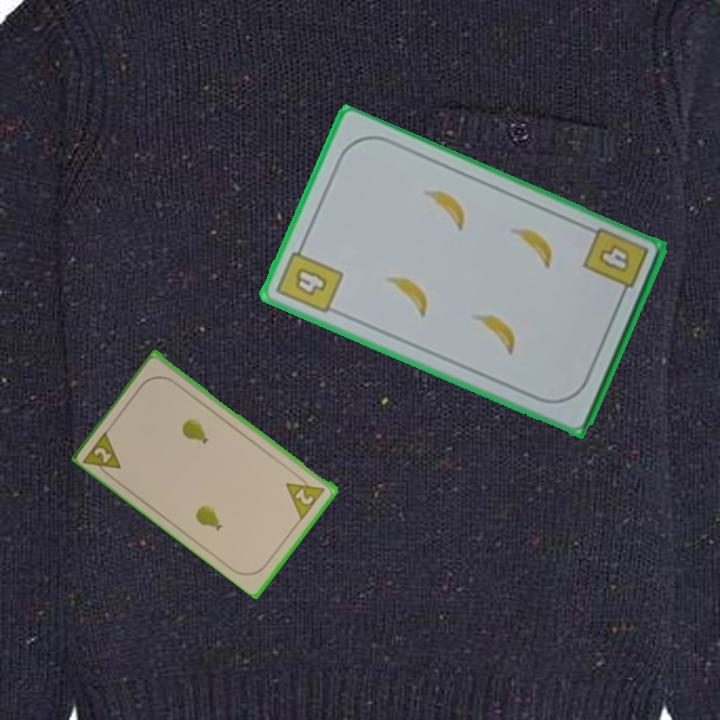2p: (80, 426, 125, 482), (282, 470, 328, 521)
4b: (272, 238, 346, 316), (579, 224, 651, 303)
